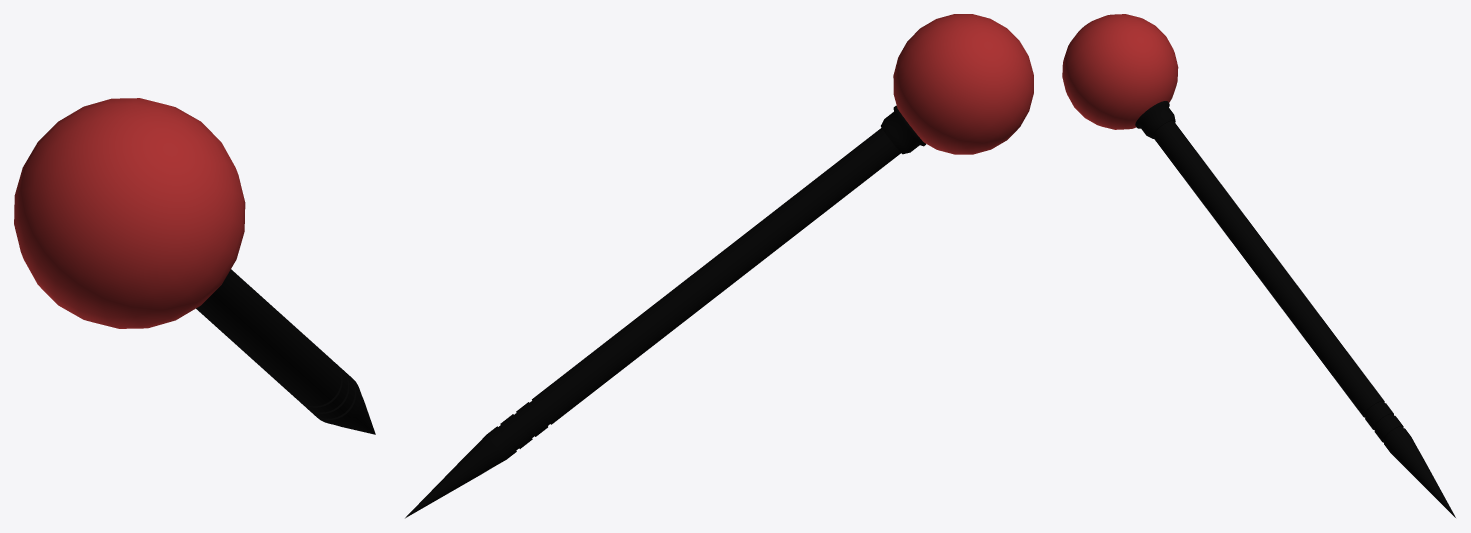
Rendered from BROWN.glb.
3 views of the same model, side by side, from view 1: azimuth 30°, elevation 25°; view 2: azimuth 150°, elevation 25°; view 3: azimuth 270°, elevation 25° (orthographic). The views are drawn at different scales.
Parts seen in each view (by area): view 1: Sphere, Needle; view 2: Needle, Sphere, Ball_Holder; view 3: Needle, Sphere, Ball_Holder.
Part boxes in pixels (box(x1,y1,x2,y2)): Sphere: box(14, 98, 245, 328); Needle: box(196, 269, 375, 434); Needle: box(405, 128, 900, 518); Sphere: box(893, 14, 1033, 154); Ball_Holder: box(881, 105, 926, 154); Needle: box(1152, 120, 1455, 517); Sphere: box(1062, 14, 1178, 129); Ball_Holder: box(1135, 101, 1175, 138).
Bounding box in the file's own units: 7.45 × 7.45 × 7.45.
